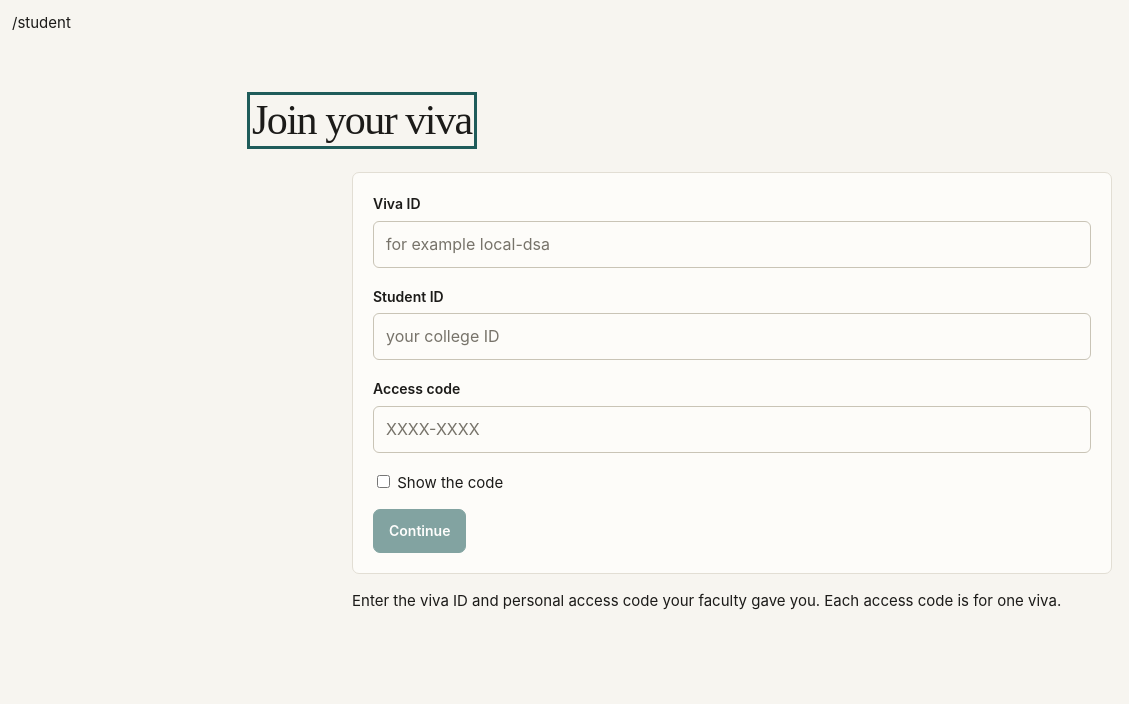
student screens › voice modes stay locked until the microphone check passed; typing never needs it
The width and height of the screenshot is (1129, 704).
Type "v1" into the field labelled "Viva ID" at x=732, y=244, box [373,221,1091,268]
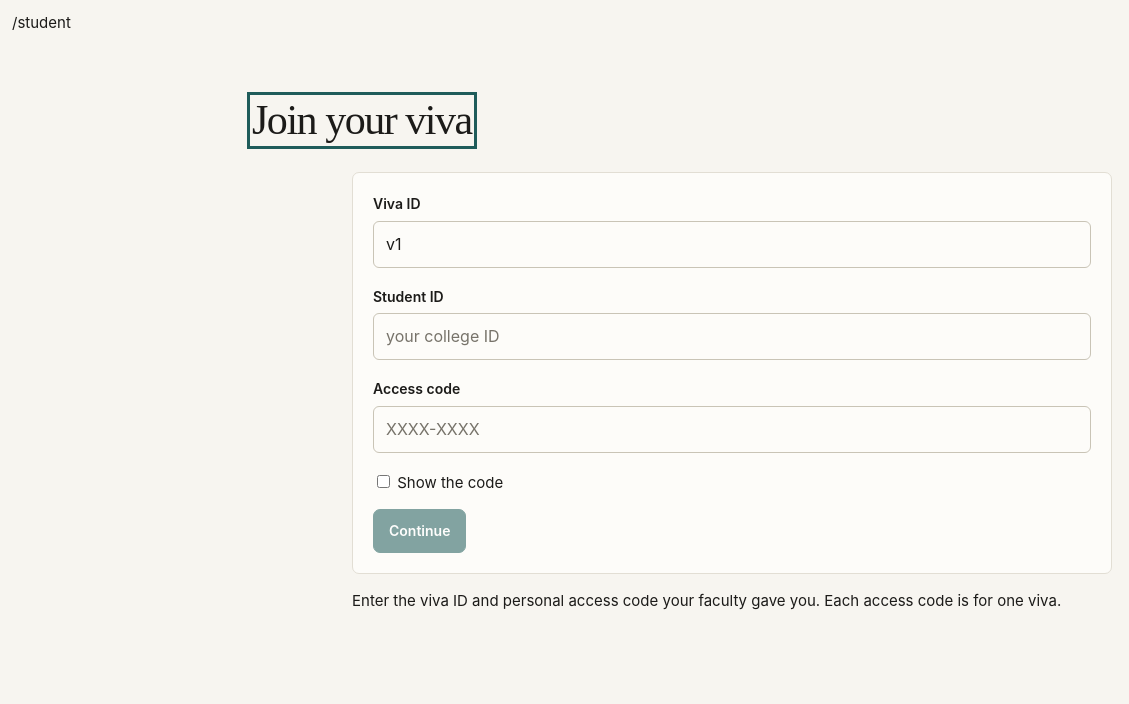
Type "S1" into the field labelled "Student ID" at x=732, y=337, box [373,314,1091,360]
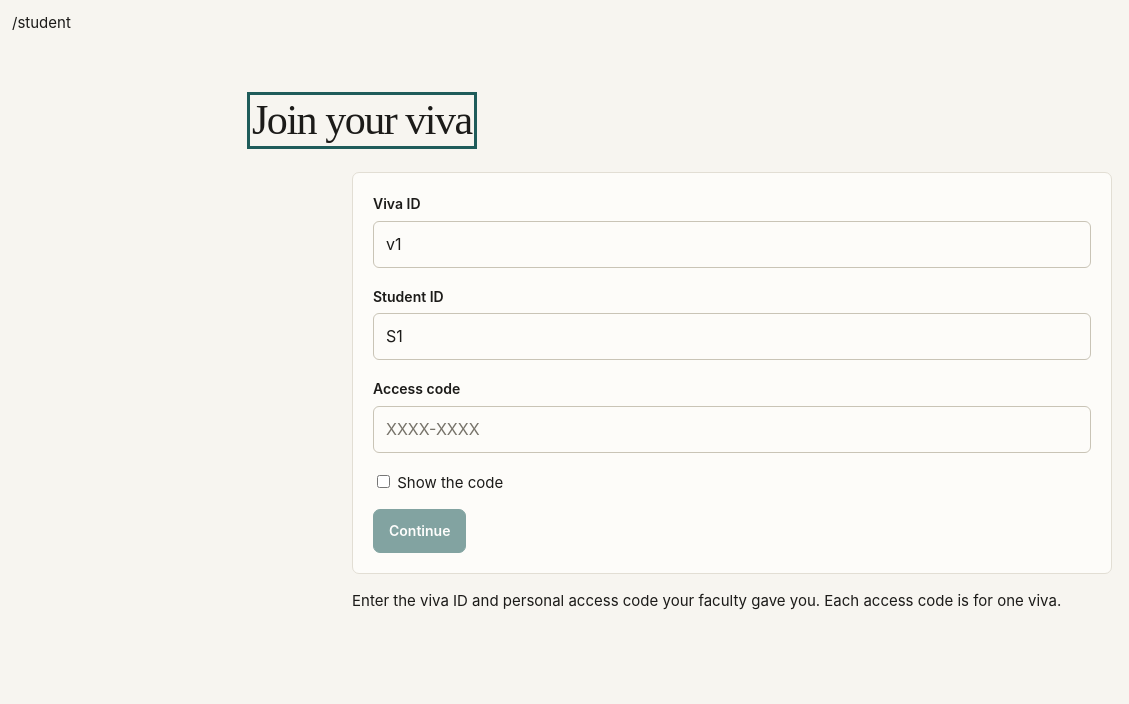
Type "AAAA-1111" into the password field labelled "Access code" at x=732, y=429, box [373,406,1091,453]
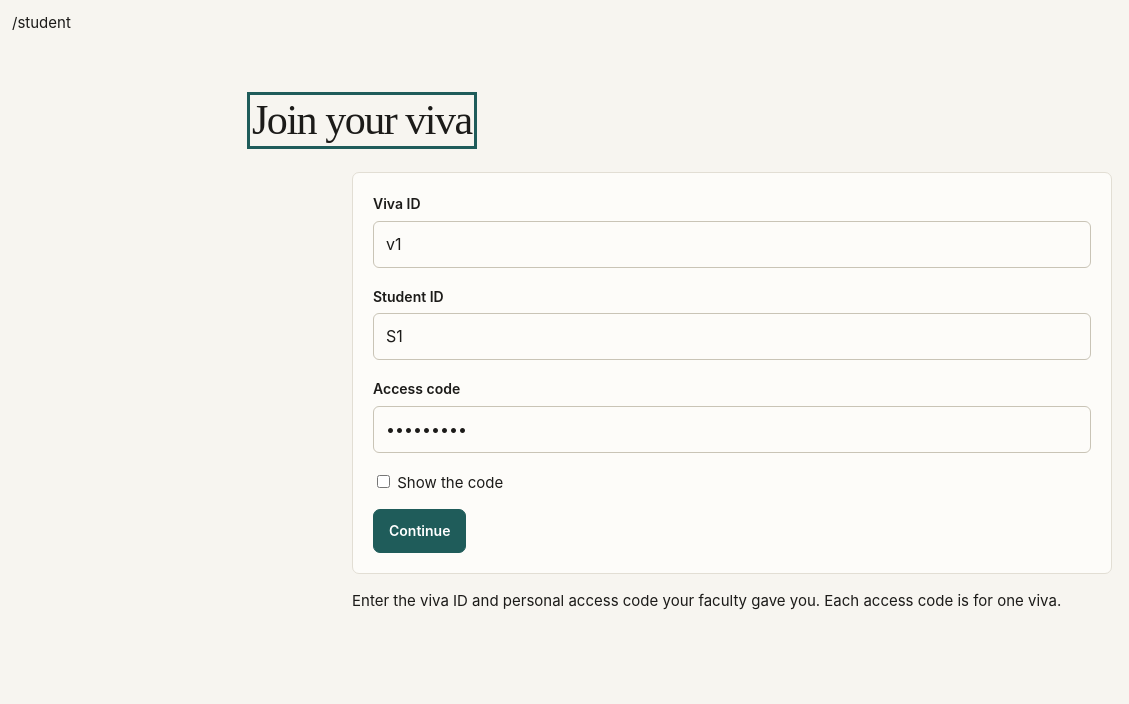
Click the button "Continue" at x=420, y=531, box [373,509,466,553]
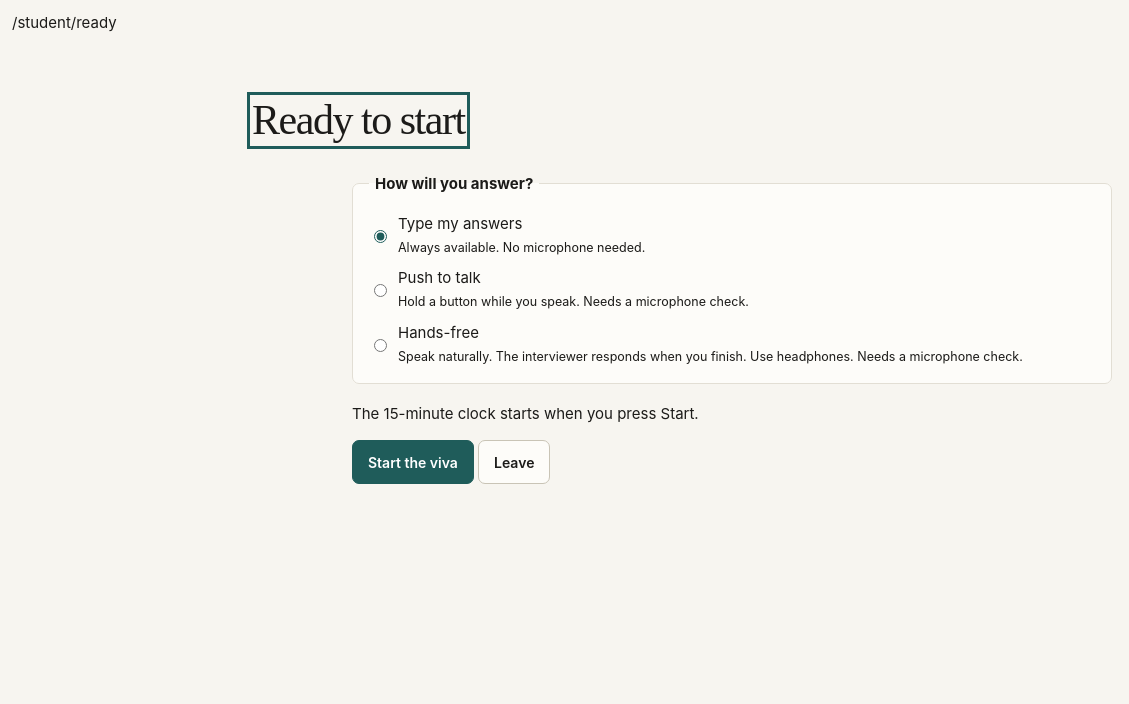
Expected: the button "Start the viva" is enabled, [352,440,474,484]
Click the radio button labelled "Push to talk" at x=380, y=291, box [374,284,387,297]
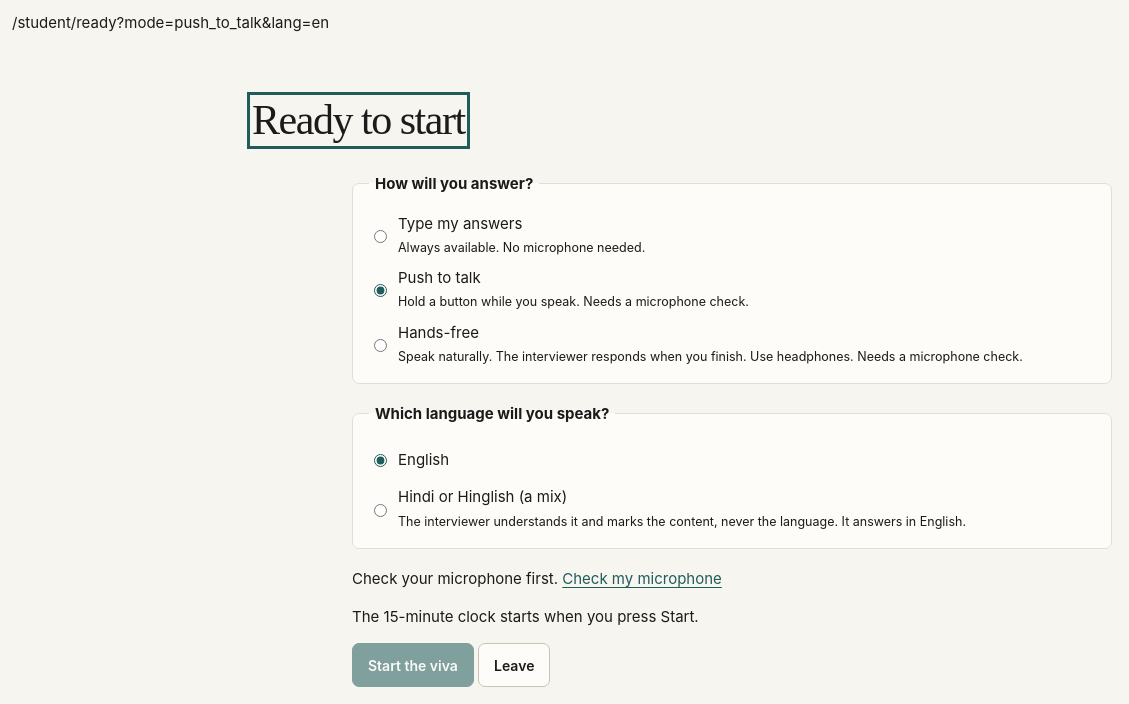
Expected: the button "Start the viva" is disabled, [352,643,474,687]
Expected: the link "Check my microphone" is shown, [562,569,722,588]
